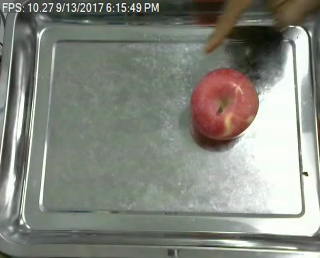Apple: (189, 66, 259, 142)
